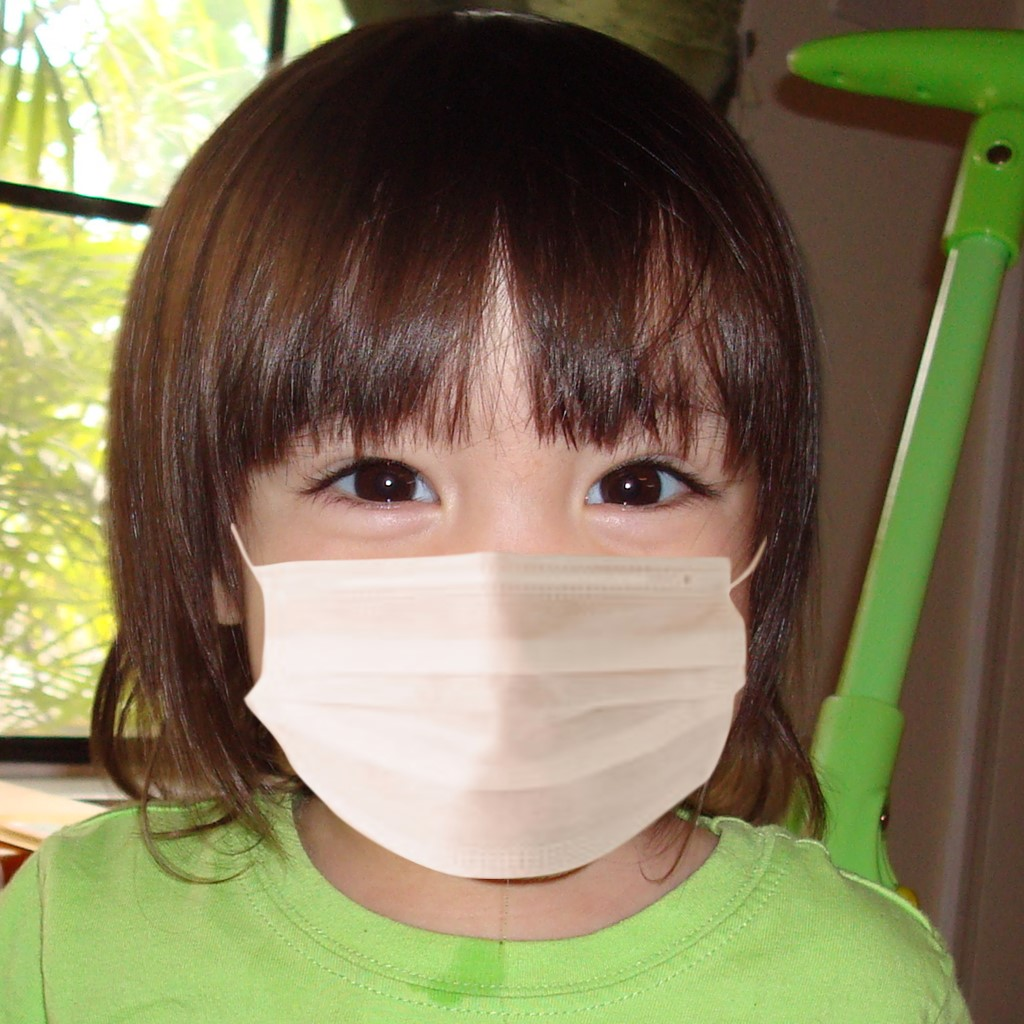con_mascara: (237, 272, 744, 873)
